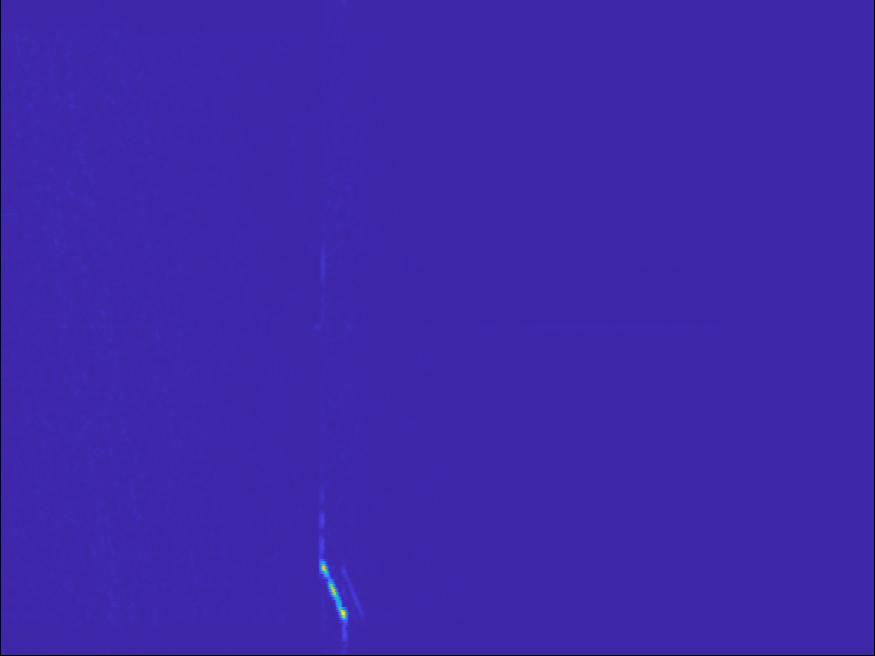Interference: (298, 543, 375, 638)
